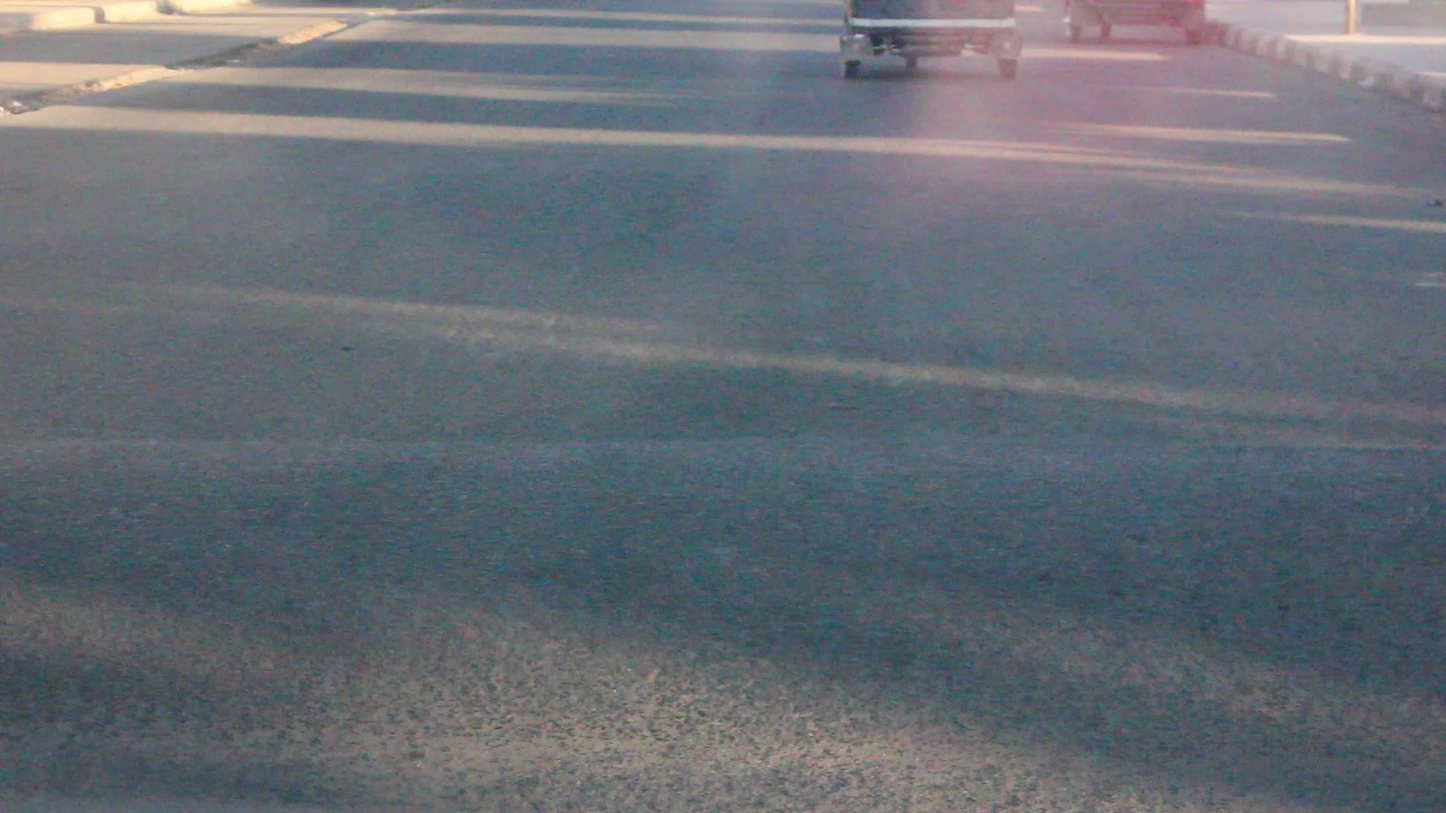Bump: (0, 443, 1445, 790)
